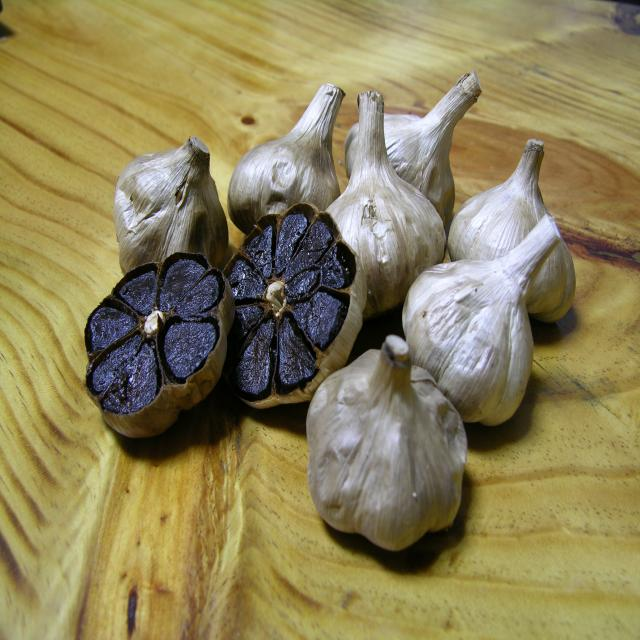garlic: (310, 365, 455, 548), (422, 261, 545, 425), (351, 127, 440, 308), (116, 135, 221, 265), (228, 90, 335, 214), (453, 139, 542, 254)
